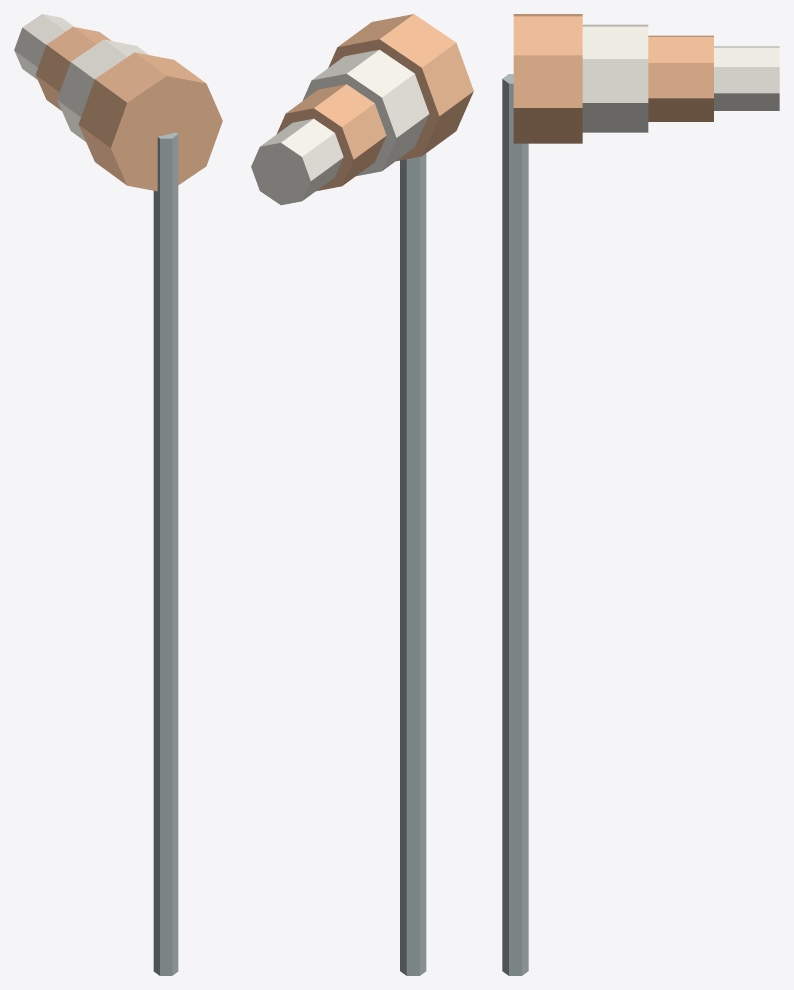
Rendered from windsock.glb.
The picture shows the model from 3 angles, left to right: view 1: azimuth 30°, elevation 25°; view 2: azimuth 150°, elevation 25°; view 3: azimuth 270°, elevation 25°; orthographic projection. The views are drawn at different scales.
Visible parts, largest first — view 1: windsock__pole, windsock__sock_band, windsock__sock_band.001, windsock__sock_band.002, windsock__sock_band.003; view 2: windsock__pole, windsock__sock_band, windsock__sock_band.001, windsock__sock_band.003, windsock__sock_band.002; view 3: windsock__pole, windsock__sock_band, windsock__sock_band.001, windsock__sock_band.002, windsock__sock_band.003.
Boxes of the visible parts, <box> form: windsock__pole: <box>153,132,178,975</box>; windsock__sock_band: <box>78,52,222,191</box>; windsock__sock_band.001: <box>57,39,148,141</box>; windsock__sock_band.002: <box>35,27,111,110</box>; windsock__sock_band.003: <box>14,14,73,79</box>; windsock__pole: <box>400,153,426,975</box>; windsock__sock_band: <box>328,14,473,161</box>; windsock__sock_band.001: <box>302,49,429,176</box>; windsock__sock_band.003: <box>251,118,343,205</box>; windsock__sock_band.002: <box>277,84,386,191</box>; windsock__pole: <box>502,74,528,975</box>; windsock__sock_band: <box>513,14,582,143</box>; windsock__sock_band.001: <box>582,24,648,132</box>; windsock__sock_band.002: <box>648,35,713,121</box>; windsock__sock_band.003: <box>714,46,779,110</box>.
Bounding box in the file's own units: 0.84 × 6.42 × 1.69.
